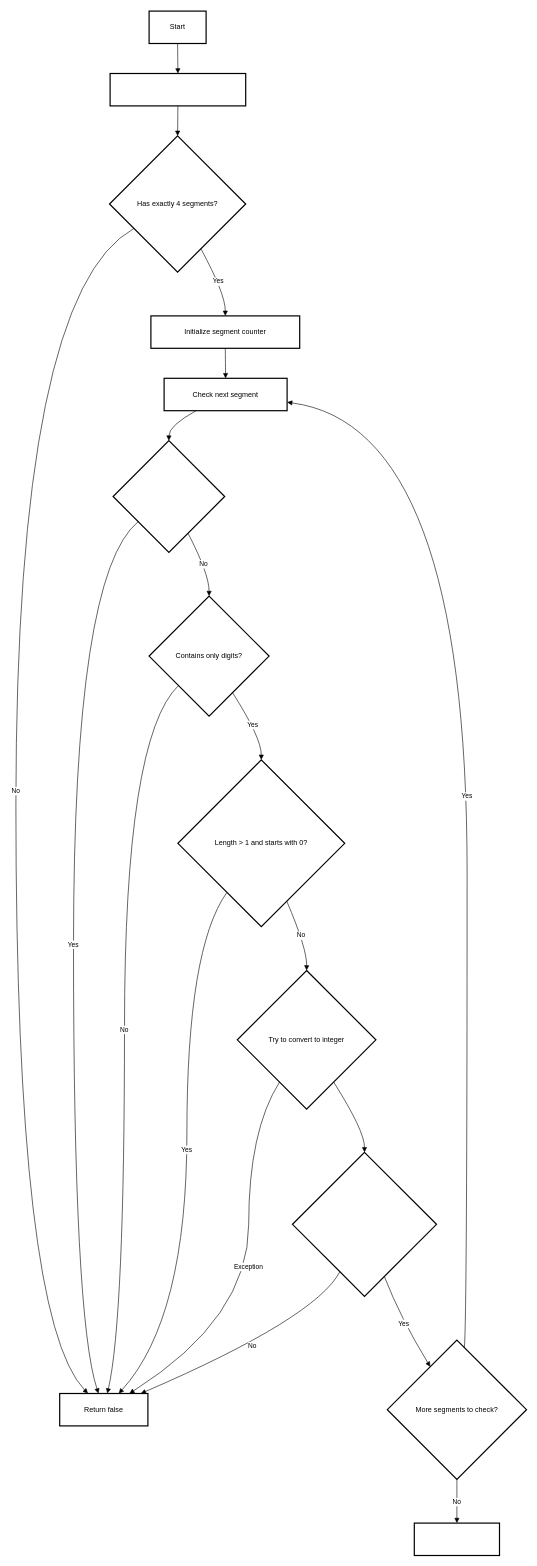
Image size: 537x1566. Some labels were removed from this diagram. Here are the shapes that lost their labels. From the top down, the centre of each, then its label:
At [177,89]: "Split IP address by dots".
At [168,496]: "Is segment empty?".
At [364,1224]: "Value between 0 and 255?".
At [456,1539]: "Return true".
